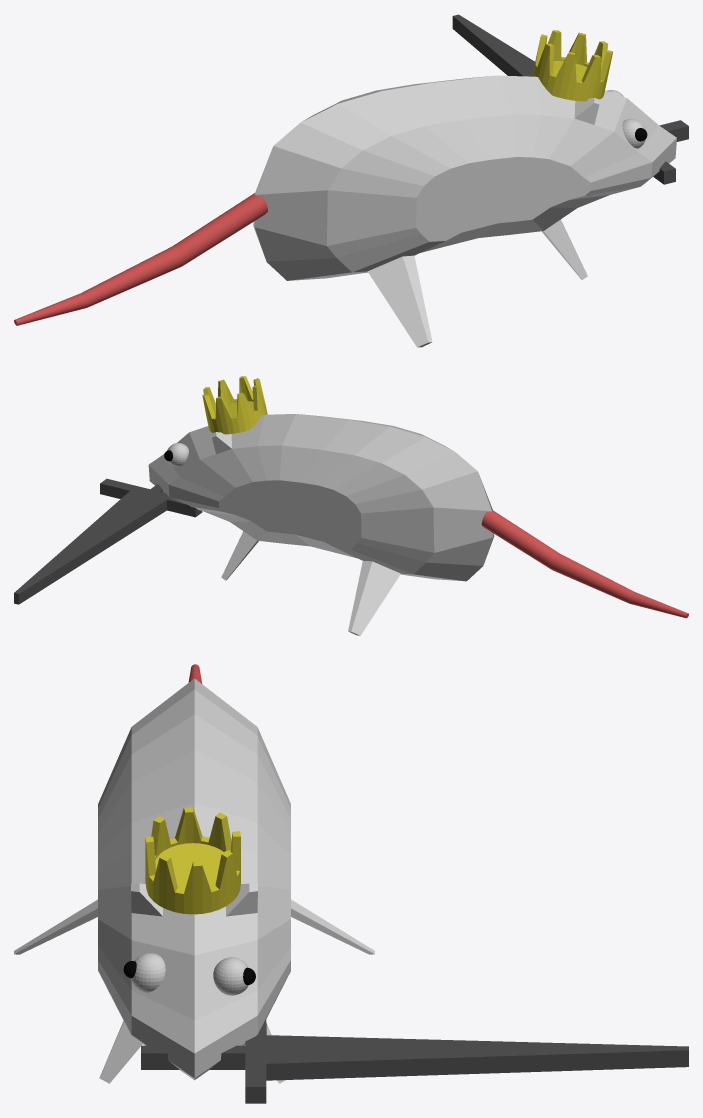
File: rat.obj
3 renders of one model, top to bottom at view 1: azimuth 30°, elevation 25°; view 2: azimuth 150°, elevation 25°; view 3: azimuth 270°, elevation 25°, orthographic. The views are drawn at different scales.
Parts seen in each view (by area): view 1: Plane, Cylinder, Circle, Plane.001; view 2: Plane, Plane.001, Cylinder, Circle; view 3: Plane, Plane.001, Circle, Sphere.001, Sphere.
Part boxes in pixels (box(x1,y1,x2,y2)): Plane: box(253, 75, 676, 347); Cylinder: box(14, 193, 267, 325); Circle: box(532, 30, 612, 101); Plane.001: box(452, 14, 688, 184); Plane: box(148, 414, 494, 635); Plane.001: box(14, 478, 202, 604); Cylinder: box(481, 510, 688, 618); Circle: box(202, 376, 267, 434); Plane: box(14, 678, 374, 1083); Plane.001: box(141, 1019, 688, 1103); Circle: box(145, 807, 240, 914); Sphere.001: box(213, 957, 248, 995); Sphere: box(130, 953, 165, 992).
Size of the model in its own units: 7.23 by 2.12 by 4.73.
